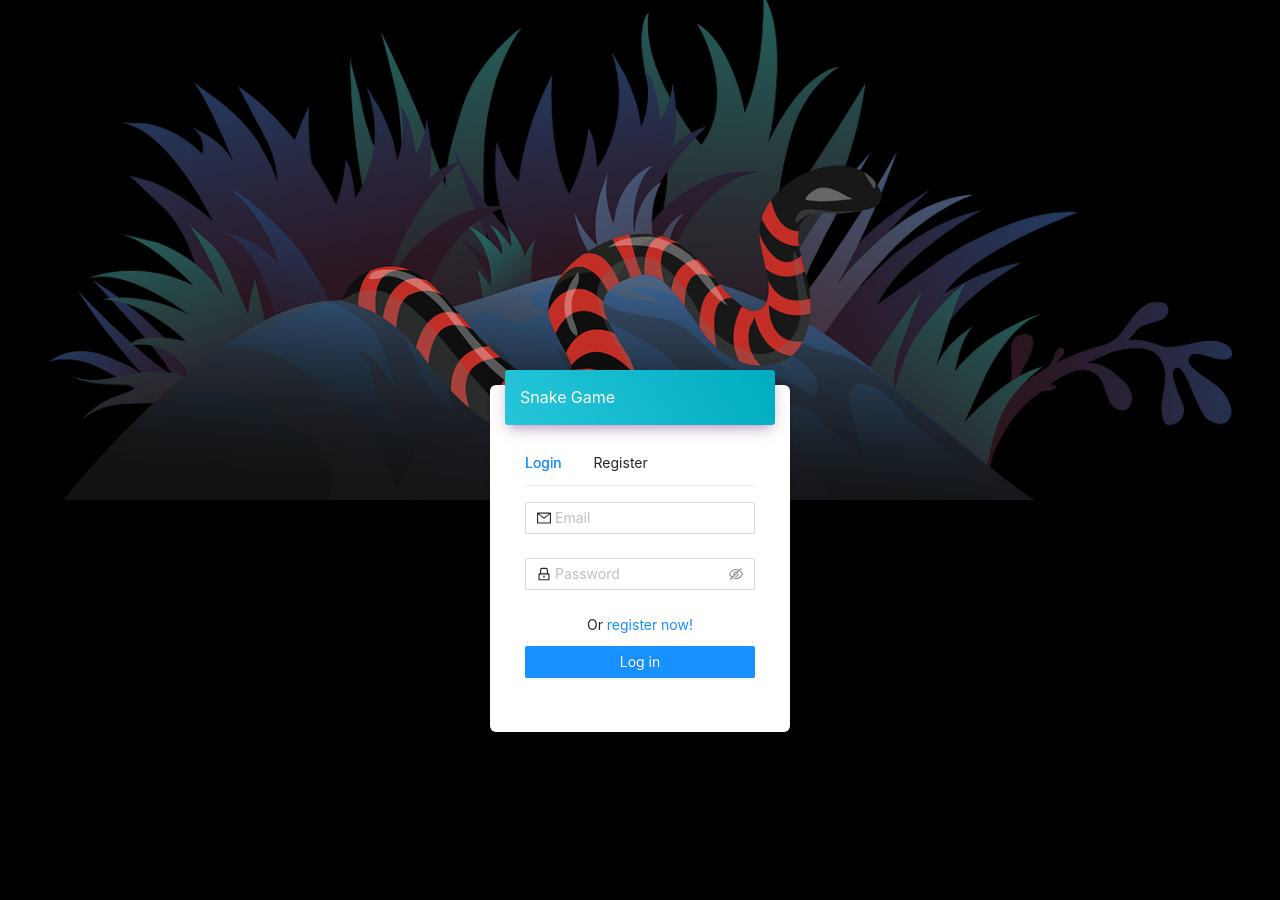
Test: Register form
Click the link "register now!": (650, 625) x1=607 y1=616 x2=693 y2=633
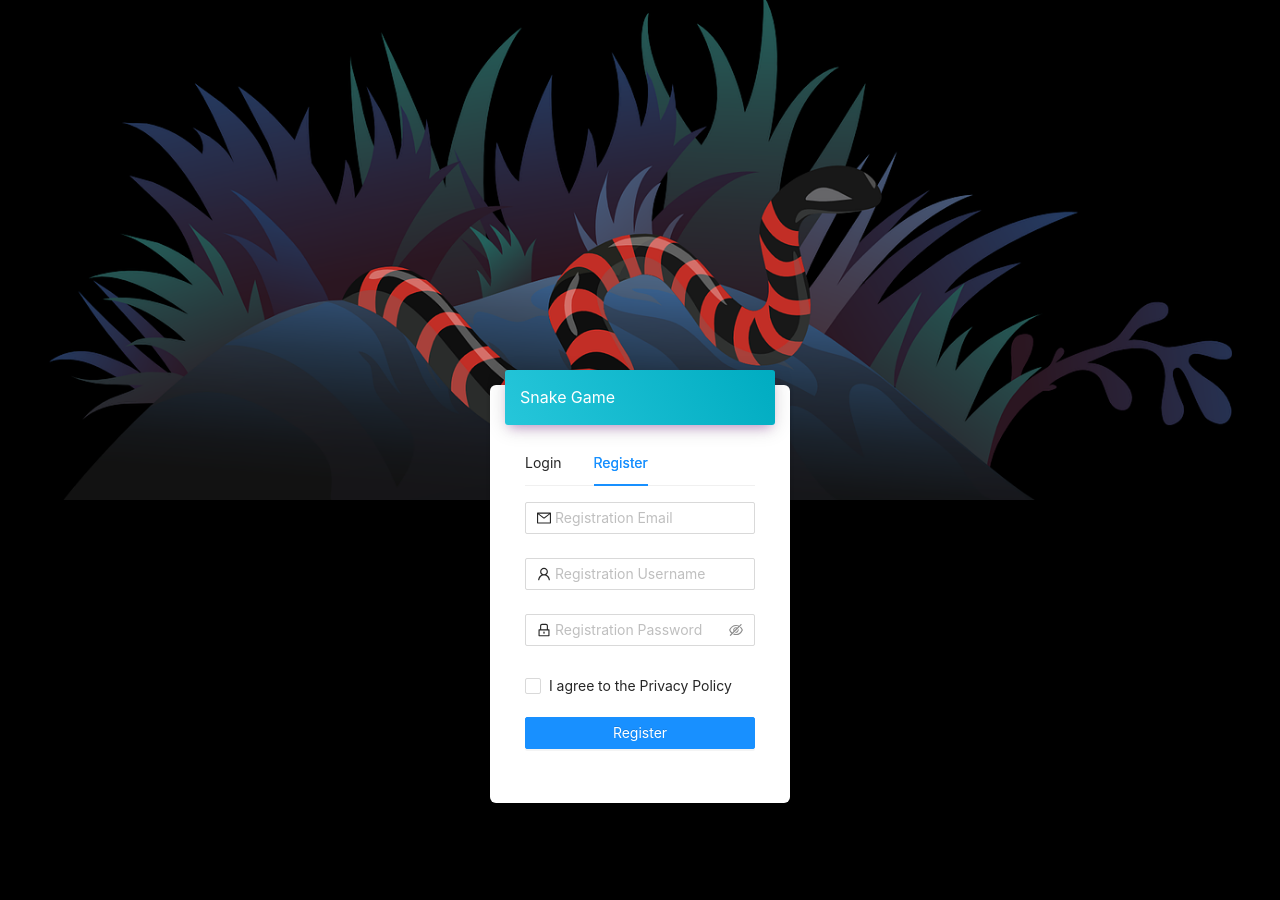
expect the field with placeholder "Registration Username" is shown: met, box x1=555 y1=563 x2=743 y2=585
expect the field with placeholder "Registration Email" is shown: met, box x1=555 y1=507 x2=743 y2=529
expect the password field with placeholder "Registration Password" is shown: met, box x1=555 y1=619 x2=725 y2=641
